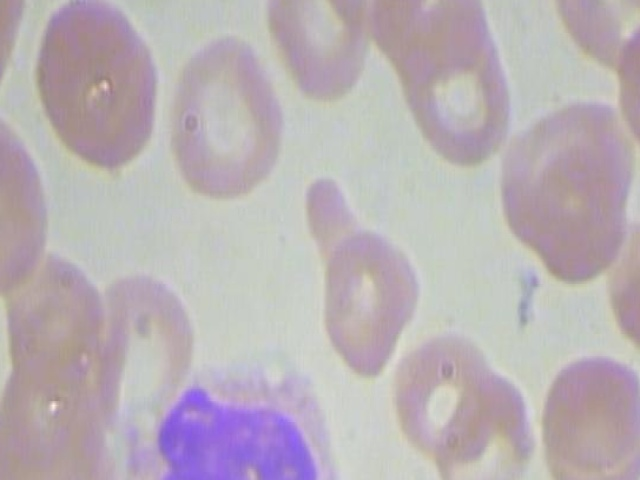RBC: (287, 162, 426, 380), (161, 20, 285, 214), (33, 0, 166, 178), (400, 6, 517, 167), (509, 126, 625, 286), (534, 347, 640, 480), (433, 361, 537, 480), (261, 0, 378, 101), (0, 122, 52, 295), (543, 0, 640, 82)
WBC: (113, 347, 347, 480)
